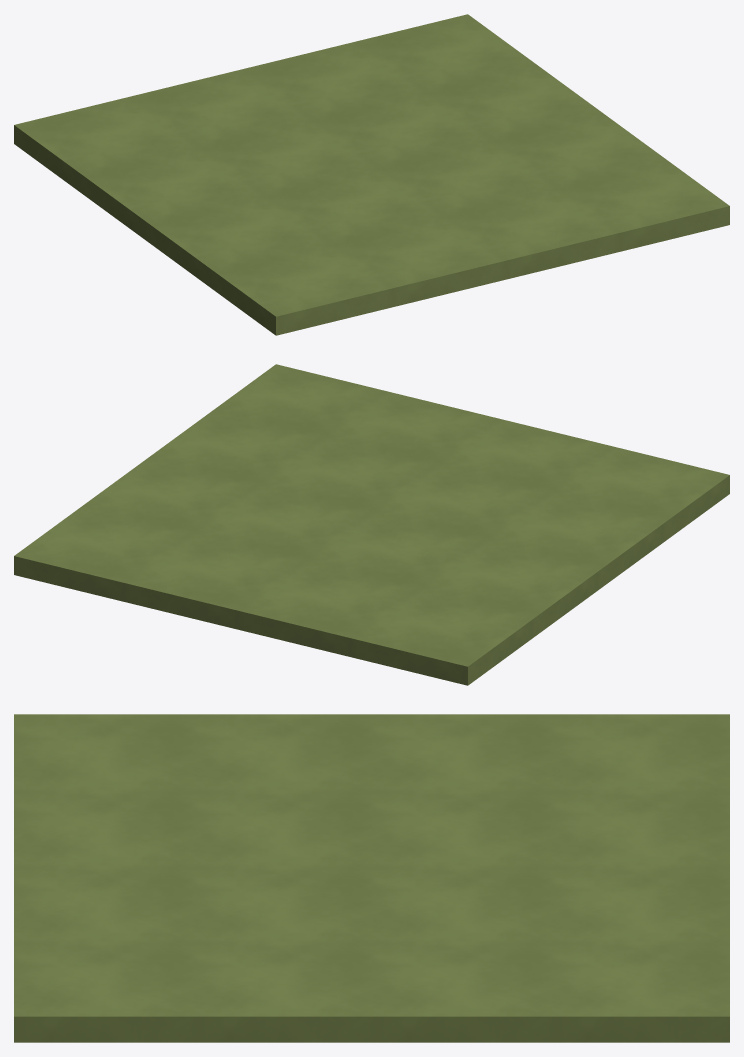
File: terrain-meadow-4m.glb
3 renders of one model, top to bottom at view 1: azimuth 30°, elevation 25°; view 2: azimuth 150°, elevation 25°; view 3: azimuth 270°, elevation 25°, orthographic. The views are drawn at different scales.
Parts seen in each view (by area): view 1: terrain-meadow-4m / N13 / meadow soil; view 2: terrain-meadow-4m / N13 / meadow soil; view 3: terrain-meadow-4m / N13 / meadow soil.
Part boxes in pixels (bbox=[...]): terrain-meadow-4m / N13 / meadow soil: bbox=[14, 14, 729, 335]; terrain-meadow-4m / N13 / meadow soil: bbox=[14, 364, 729, 685]; terrain-meadow-4m / N13 / meadow soil: bbox=[14, 714, 729, 1042].
Bounding box in the file's own units: 4 × 0.16 × 4.
Materials: 1 (1 with a texture image).
